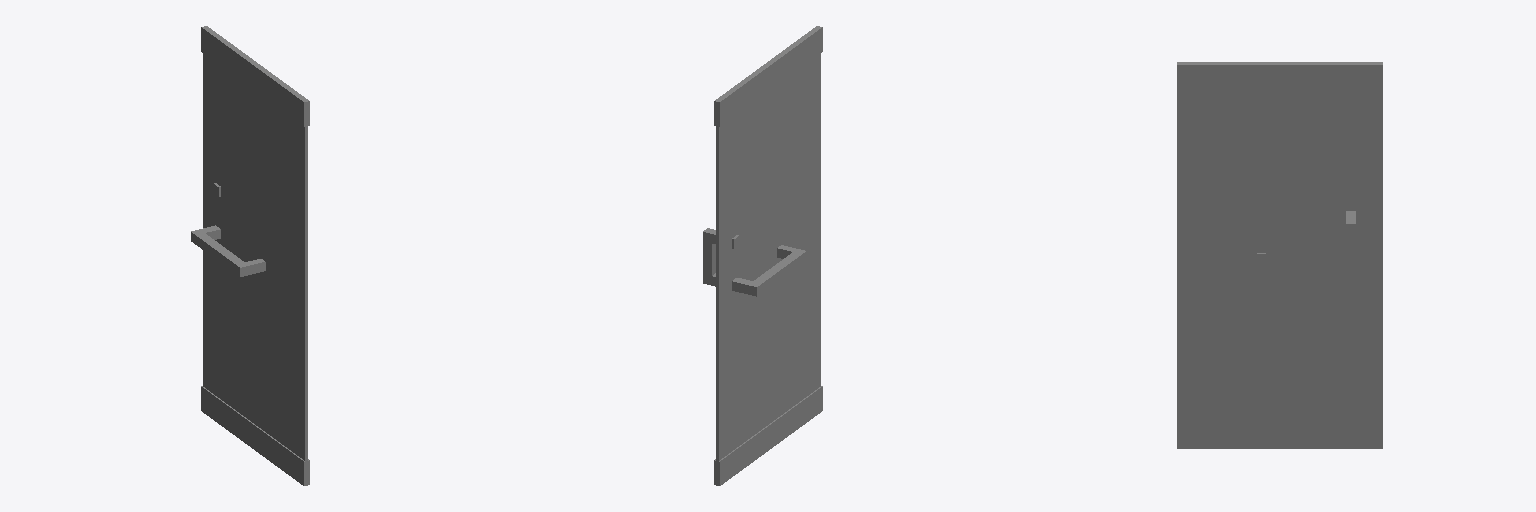
Rendered from Terrace_door_left.obj.
3 views of the same model, side by side, from view 1: azimuth 30°, elevation 25°; view 2: azimuth 150°, elevation 25°; view 3: azimuth 270°, elevation 25° (orthographic).
Parts seen in each view (by area): view 1: ????_?; view 2: ????_?; view 3: ????_?.
Boxes of the visible parts, <box> form: ????_?: <box>191,26,309,485</box>; ????_?: <box>703,26,822,485</box>; ????_?: <box>1177,62,1382,448</box>.
Size of the model in its own units: 0.3649 by 2.46 by 1.19.